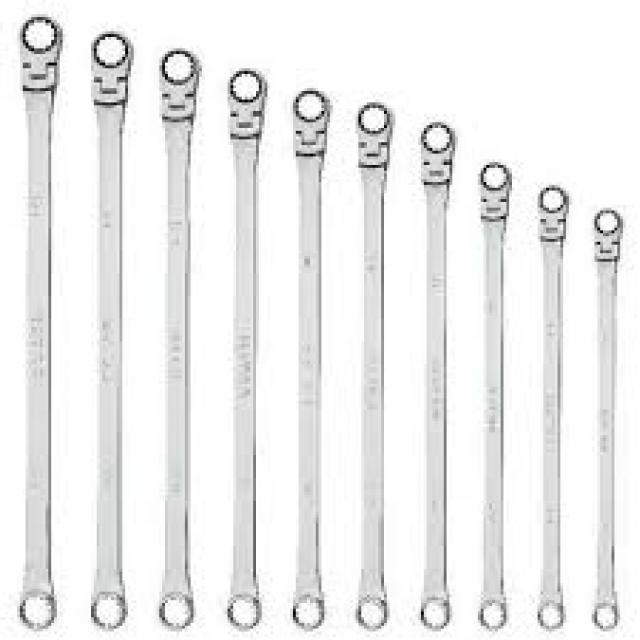wrench: (1, 8, 74, 632), (147, 37, 208, 633), (81, 20, 139, 634), (344, 91, 400, 630), (218, 61, 268, 636), (282, 81, 332, 630), (408, 114, 460, 639), (468, 152, 516, 634), (525, 175, 570, 638), (582, 199, 628, 636)
